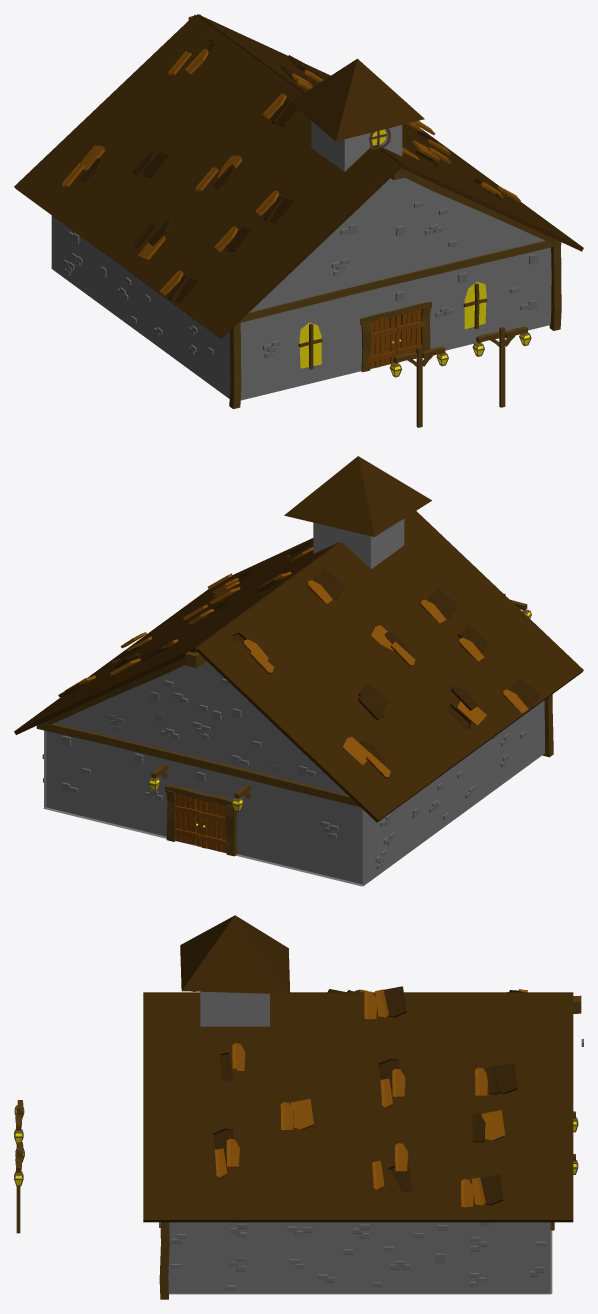
The model's file is Orphanage.fbx.
3 renders of one model, top to bottom at view 1: azimuth 30°, elevation 25°; view 2: azimuth 150°, elevation 25°; view 3: azimuth 270°, elevation 25°, orthographic. The views are drawn at different scales.
Parts seen in each view (by area): view 1: Plane.005; view 2: Plane.005; view 3: Plane.005.
Part boxes in pixels (x1,y1,x2,y2): Plane.005: (14,14,583,427); Plane.005: (14,456,583,886); Plane.005: (14,915,583,1299).
Size of the model in its own units: 916 by 685 by 1183.
